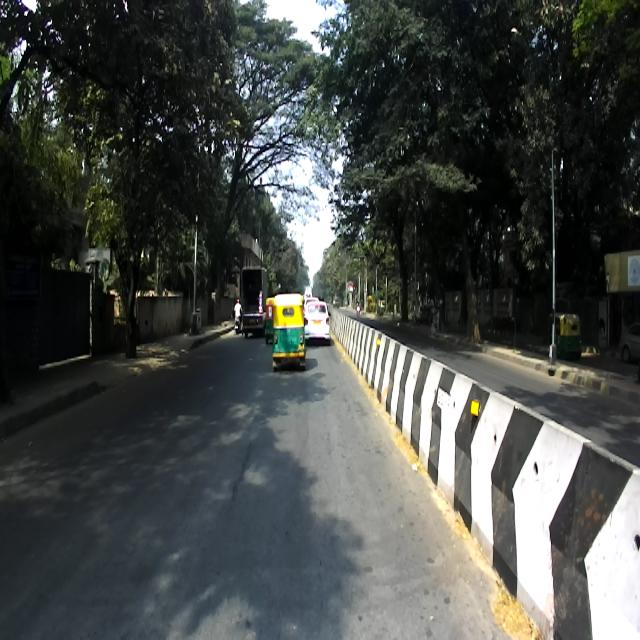auto ahead at: (268, 296, 308, 371)
truck ahead at: (239, 260, 269, 341)
